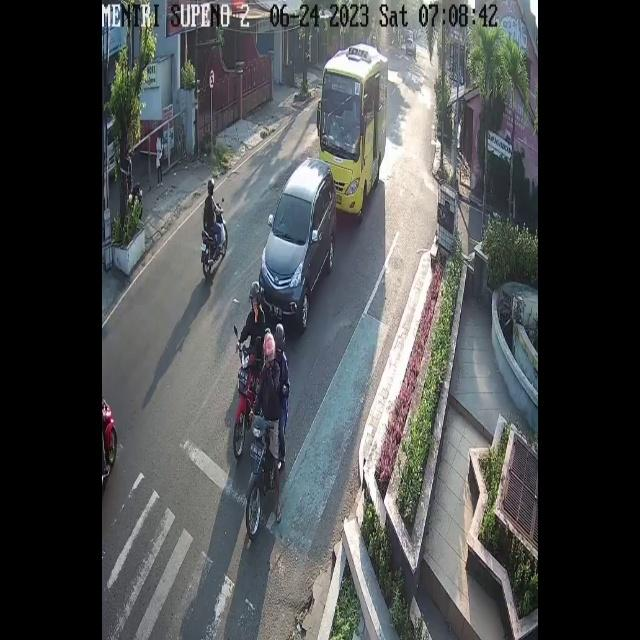bus: (243, 411, 288, 536), (233, 339, 254, 461), (199, 202, 228, 284)
car: (319, 46, 382, 216)
motorcycle: (258, 158, 336, 326)
